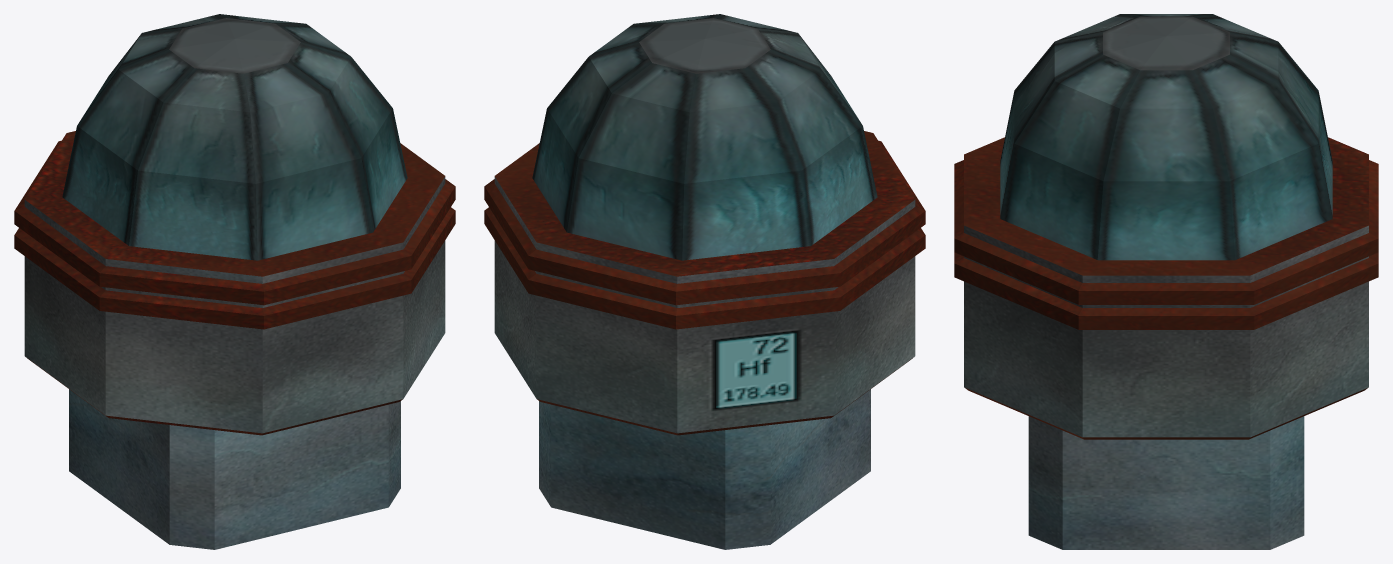
Rendered from Tank.obj.
3 renders of one model, left to right at view 1: azimuth 30°, elevation 25°; view 2: azimuth 150°, elevation 25°; view 3: azimuth 270°, elevation 25°, orthographic. The views are drawn at different scales.
Parts seen in each view (by area): view 1: Tank; view 2: Tank; view 3: Tank.
Boxes of the visible parts, x1,y1,x2,y2 form: Tank: (14, 14, 455, 549); Tank: (484, 14, 925, 549); Tank: (954, 14, 1378, 549).
Bounding box in the file's own units: 10.05 × 11.9 × 10.05.
Materials: 1 (1 with a texture image).
